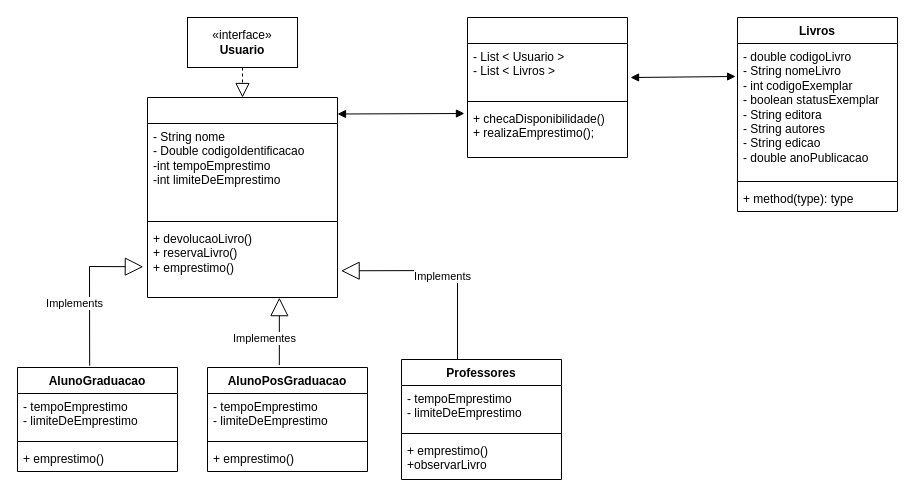
This 915x500 diagram has some shape labels left out. The shapes that lost their labels are listed below. From the top down, each one's box as (x1, y1, x2, y2) in pixels, then its label:
(466, 16, 628, 158): Biblioteca
(146, 96, 338, 298): InterfaceUsuario
